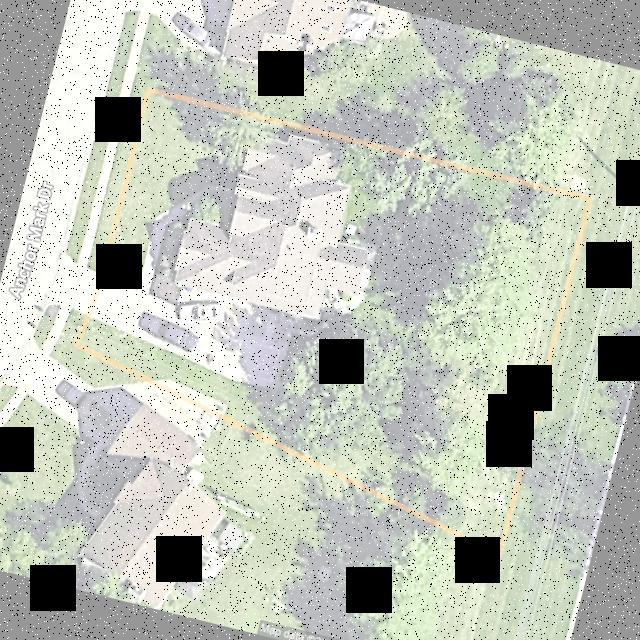Driveway: (86, 276, 289, 387)
Extra Driveway: (46, 254, 98, 312)
Extra Lawn: (65, 77, 124, 266), (87, 83, 146, 270), (61, 308, 84, 340), (39, 305, 60, 331)
Extra Sidewalk: (77, 82, 133, 266), (52, 305, 70, 337)
House: (174, 133, 366, 318)
Sidewalk: (136, 186, 234, 295), (323, 238, 378, 313)
